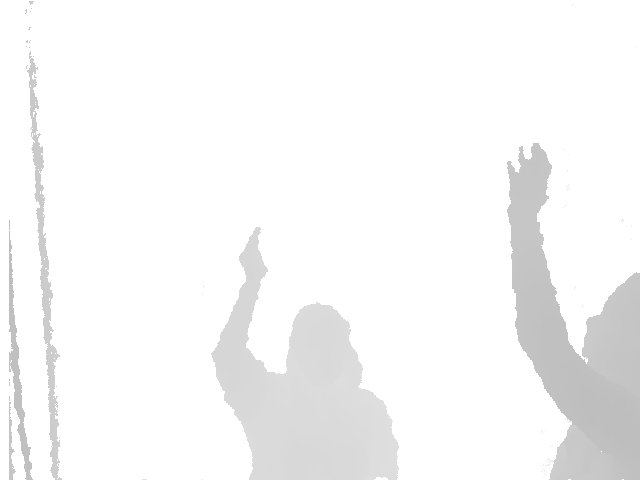hand: (507, 143, 553, 213), (239, 227, 267, 279)
head: (579, 270, 640, 359), (286, 303, 350, 378)
person: (211, 227, 401, 480), (504, 143, 640, 480)
